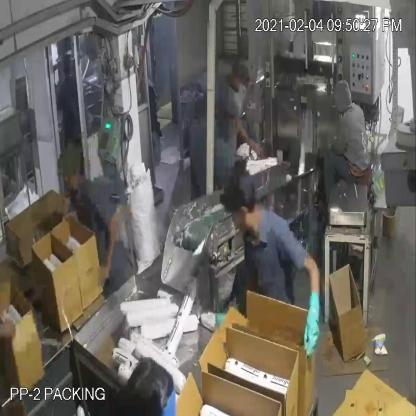glove: (300, 274, 326, 366)
no_glove: (96, 208, 119, 284), (231, 114, 264, 165), (0, 312, 20, 344)
